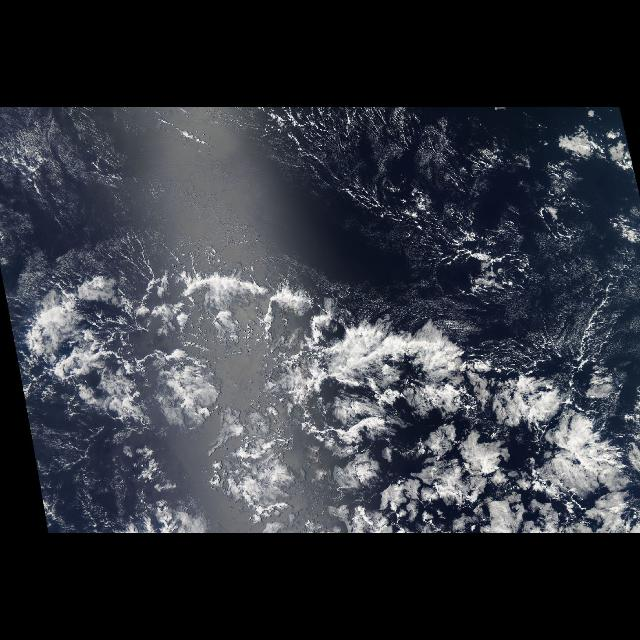Fish: (24, 233, 454, 435)
Flower: (315, 315, 639, 533)
Sugar: (1, 107, 634, 315)
